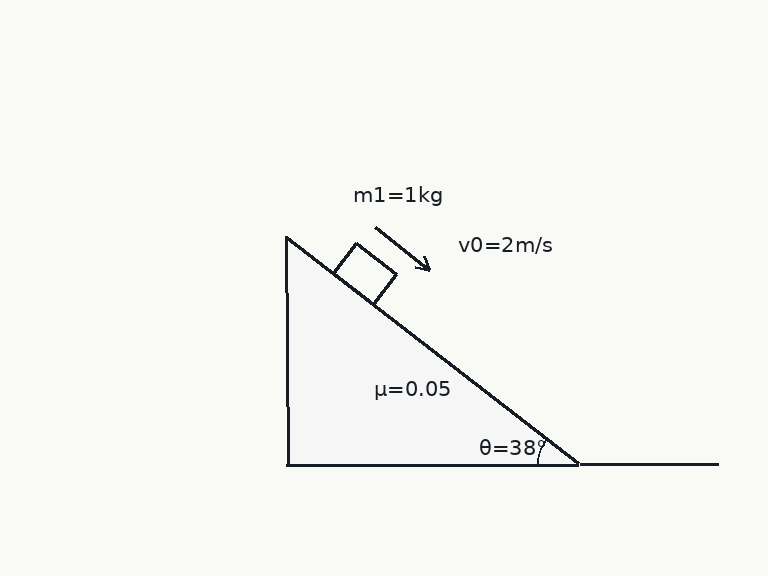block: (331, 241, 398, 306)
ramp: (285, 235, 580, 466)
